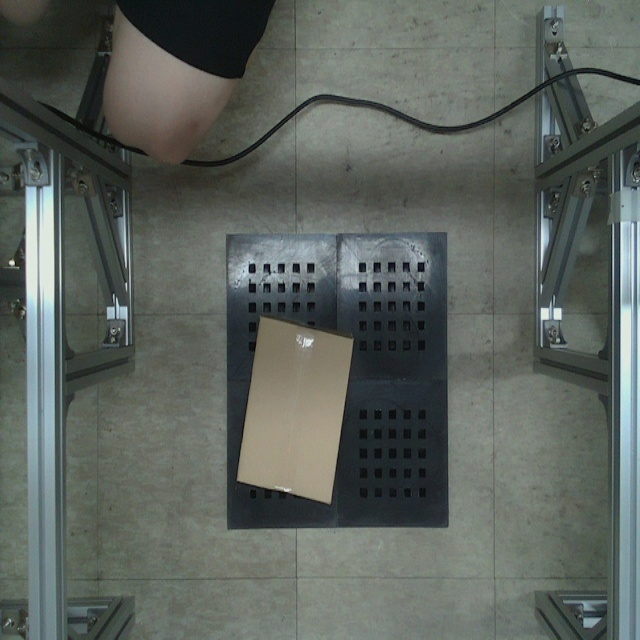box: (237, 319, 351, 508)
pallet: (221, 228, 452, 536)
